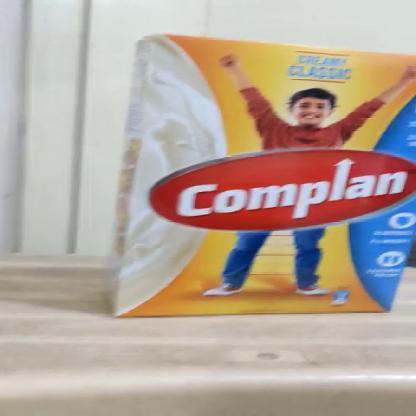Complan Classic Creme: (120, 52, 415, 314)
